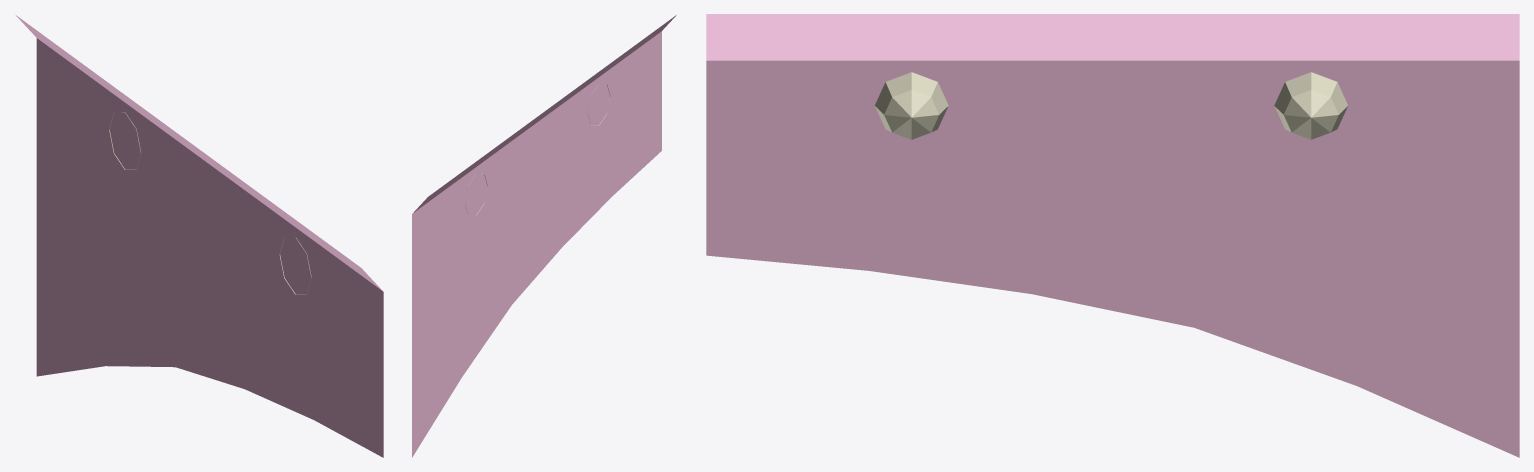
3 views of the same model, side by side, from view 1: azimuth 30°, elevation 25°; view 2: azimuth 150°, elevation 25°; view 3: azimuth 270°, elevation 25° (orthographic). The views are drawn at different scales.
Visible parts, largest first — view 1: Object04; view 2: Object04; view 3: Object04.
Part boxes in pixels (x1,y1,x2,y2): Object04: (16,15,383,457); Object04: (412,15,676,457); Object04: (706,14,1519,457).
Size of the model in its own units: 43.17 by 351 by 600.
